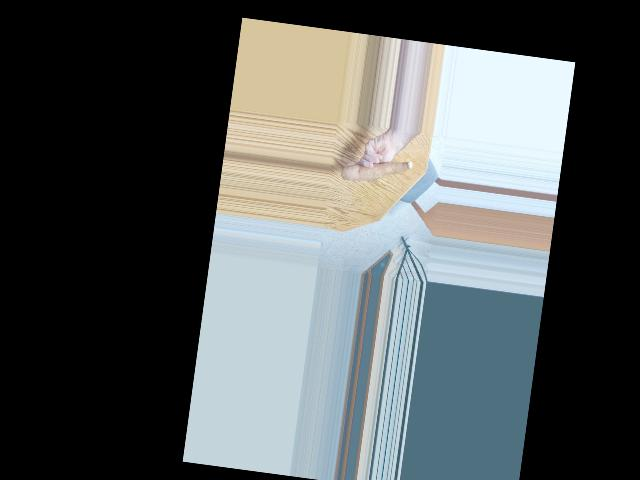sweet_potato: (339, 150, 414, 189)
